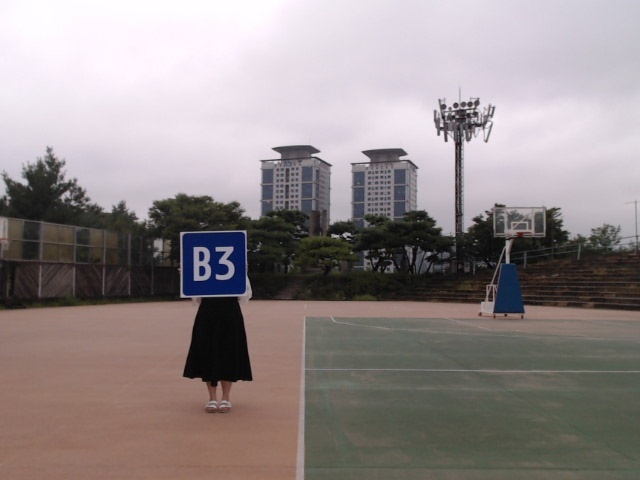delivery_b3: (181, 232, 246, 295)
